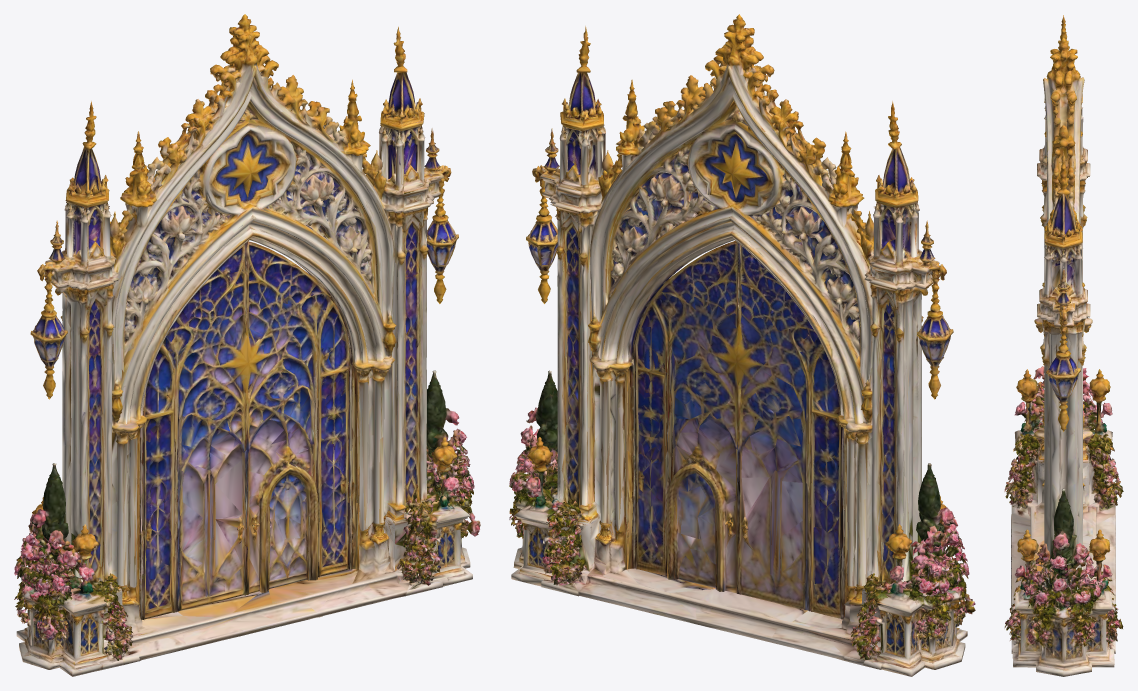
File: Royal_Portal_Gate.glb
3 renders of one model, left to right at view 1: azimuth 30°, elevation 25°; view 2: azimuth 150°, elevation 25°; view 3: azimuth 270°, elevation 25°, orthographic. The views are drawn at different scales.
Parts seen in each view (by area): view 1: Royal_Portal_Gate; view 2: Royal_Portal_Gate; view 3: Royal_Portal_Gate.
Part boxes in pixels (x1=…): Royal_Portal_Gate: x1=14, y1=14, x2=480, y2=676; Royal_Portal_Gate: x1=509, y1=14, x2=975, y2=676; Royal_Portal_Gate: x1=1004, y1=15, x2=1123, y2=676.
Bounding box in the file's own units: 1.49 × 1.9 × 0.3812.
Materials: 1 (1 with a texture image).
